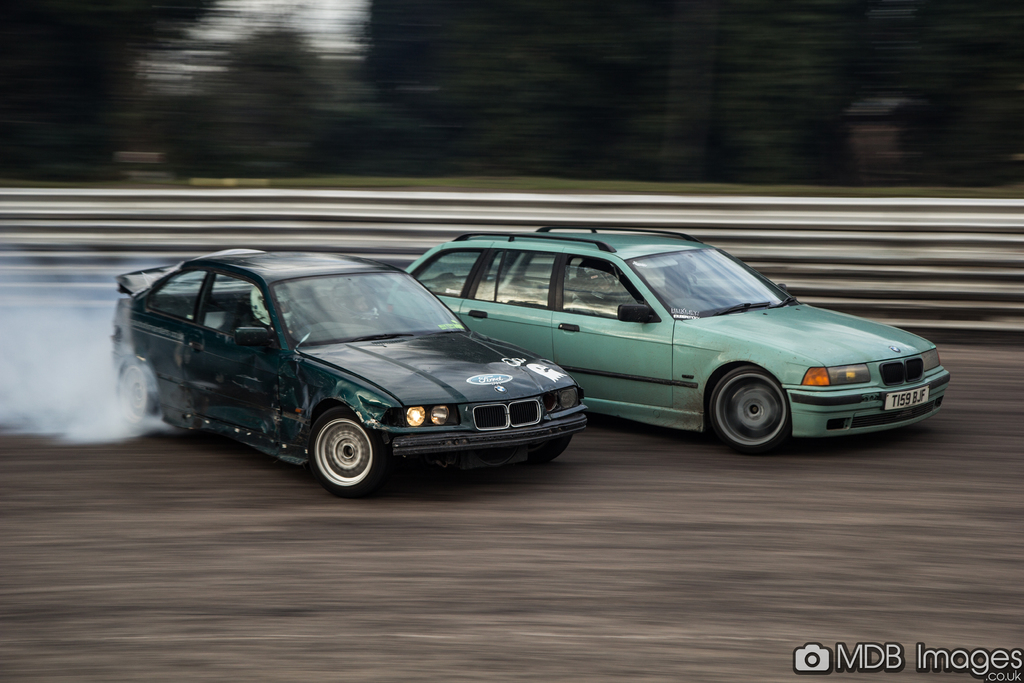Car: (387, 229, 952, 455), (108, 249, 592, 493)
